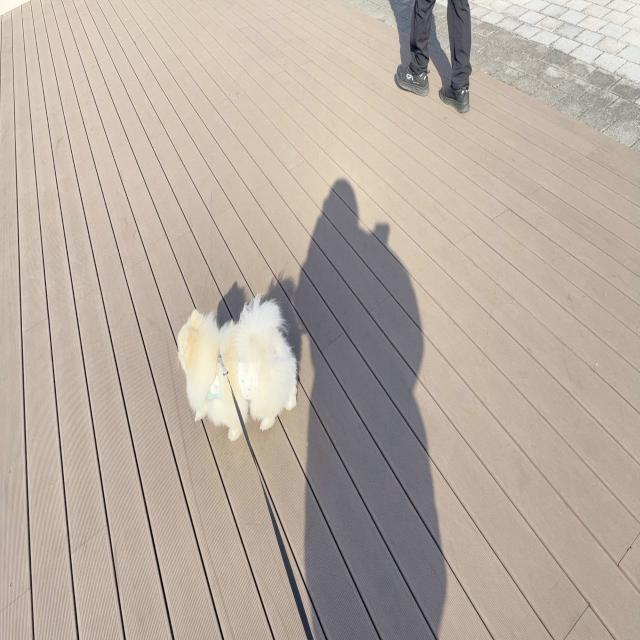Dog: (176, 288, 298, 443)
